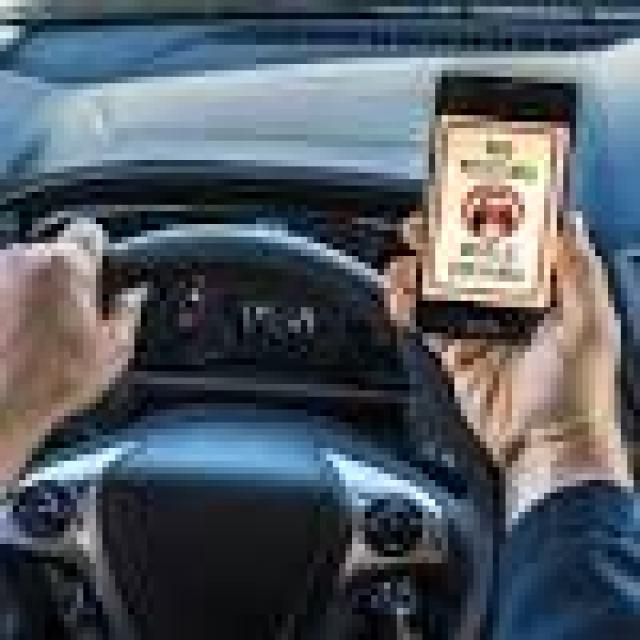Cellphone_texting: (390, 51, 628, 448)
